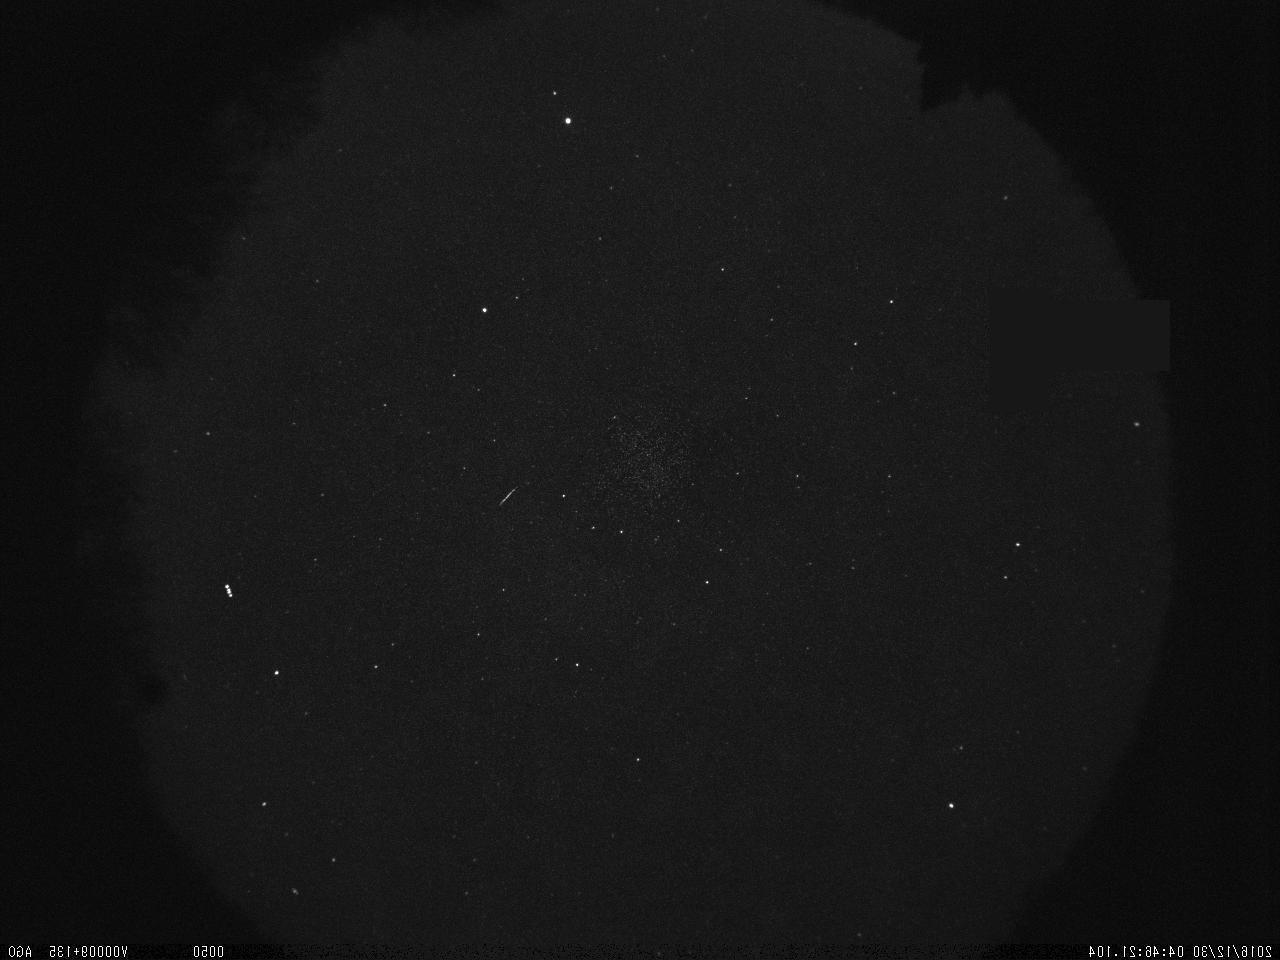meteor: (483, 477, 529, 516)
